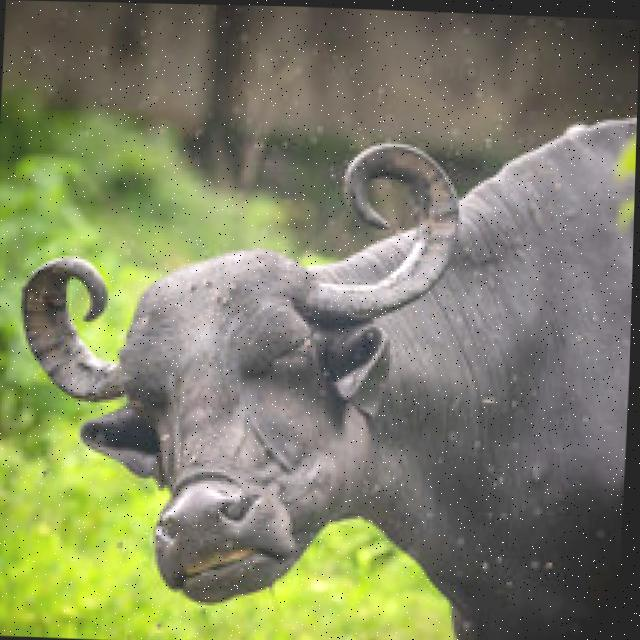Buffalo: (0, 71, 638, 640)
